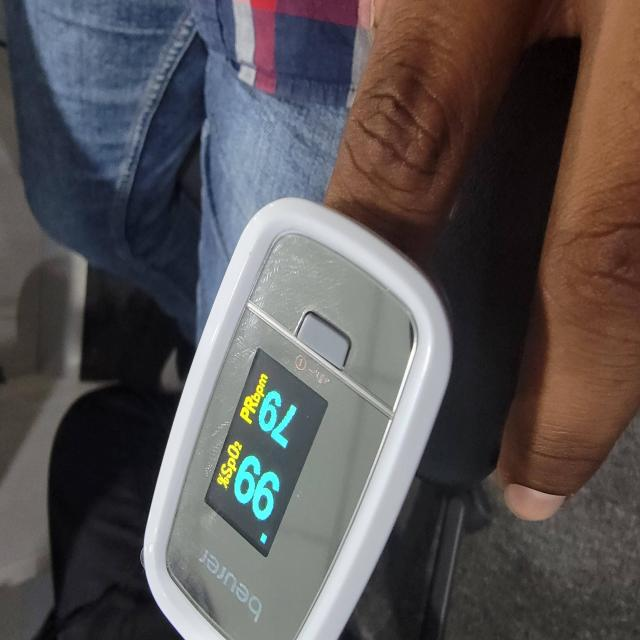spo2: (141, 198, 454, 640)
